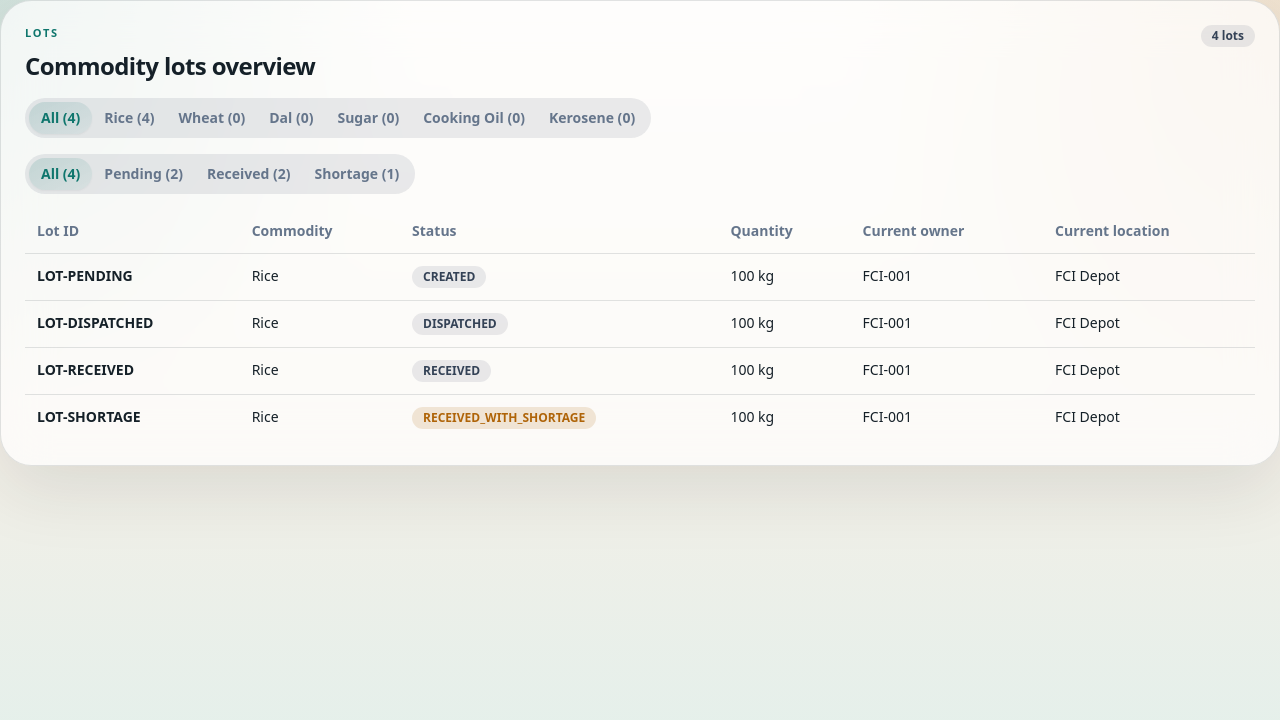
Scenario: LotsPanel › filters to shortage lots only
This screenshot has width=1280, height=720.
Step 1. Click the tab "Shortage (1)" → point(357, 174), box x1=302 y1=158 x2=411 y2=190
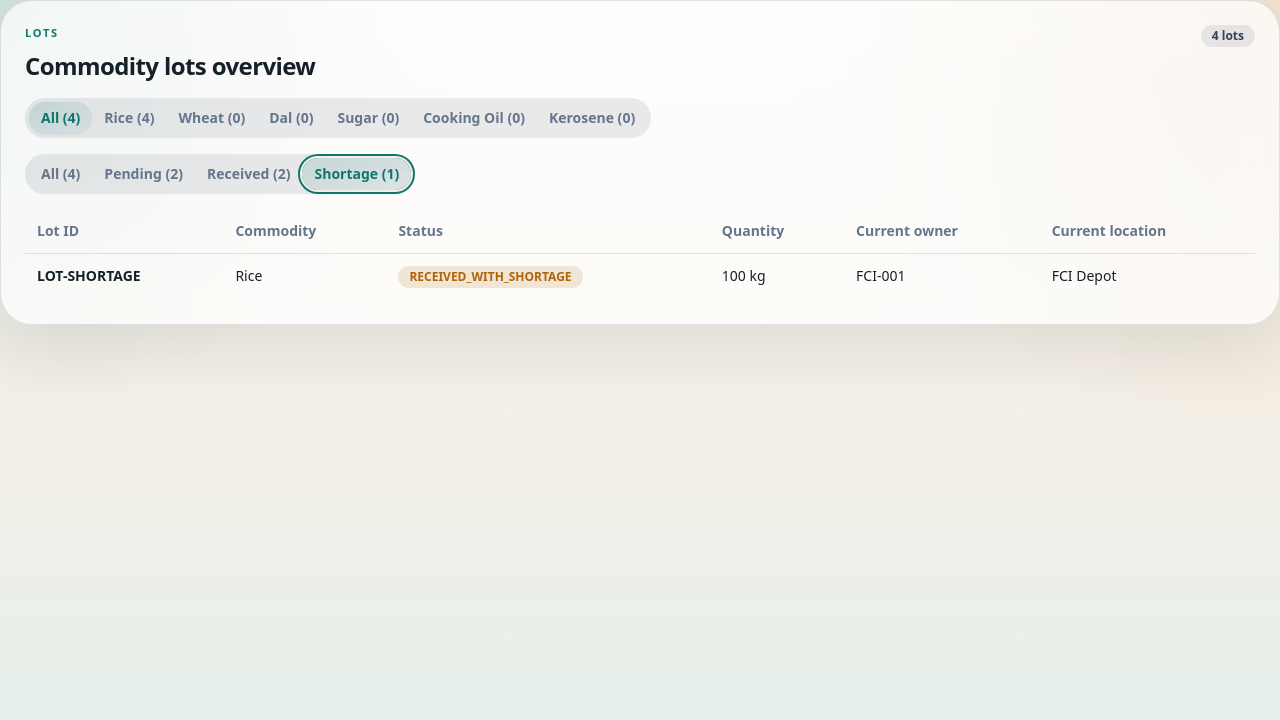
Expected: the text "LOT-SHORTAGE" is shown, x1=25 y1=254 x2=223 y2=300
Expected: the text "LOT-RECEIVED" is gone
